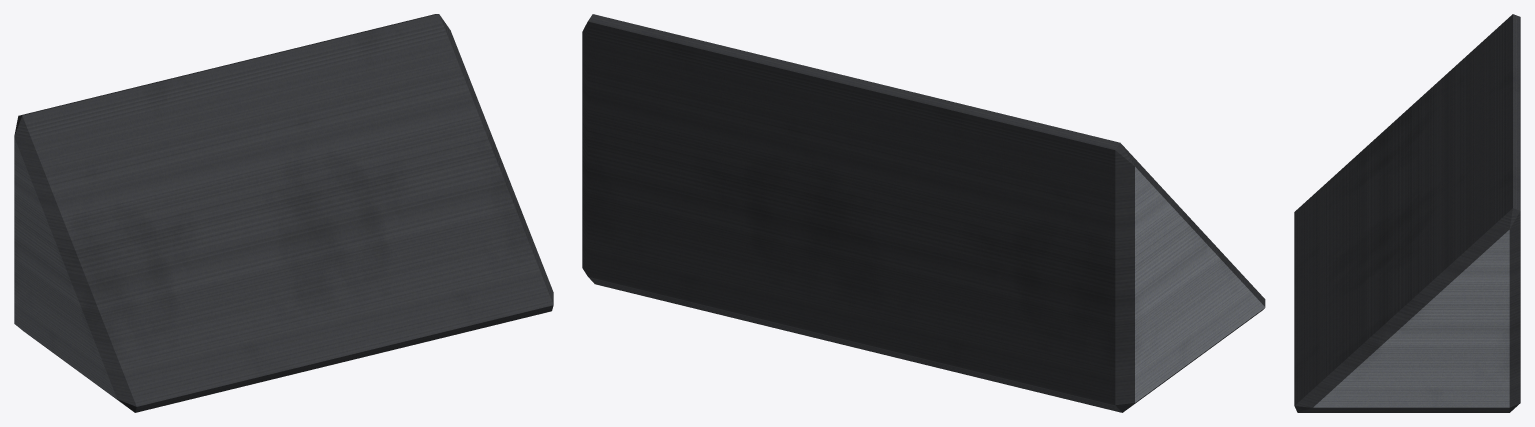
The model's file is R4B_WideWedge_LOD1.glb.
3 views of the same model, side by side, from view 1: azimuth 30°, elevation 25°; view 2: azimuth 150°, elevation 25°; view 3: azimuth 270°, elevation 25° (orthographic). The views are drawn at different scales.
Visible parts, largest first — view 1: R4B_WideWedge_LOD1; view 2: R4B_WideWedge_LOD1; view 3: R4B_WideWedge_LOD1.
Part boxes in pixels (<box>): R4B_WideWedge_LOD1: <box>14,14,553,412</box>; R4B_WideWedge_LOD1: <box>582,14,1265,412</box>; R4B_WideWedge_LOD1: <box>1294,14,1520,412</box>.
Bounding box in the file's own units: 1.07 × 0.503 × 0.503.
2 materials, 2 textured.
